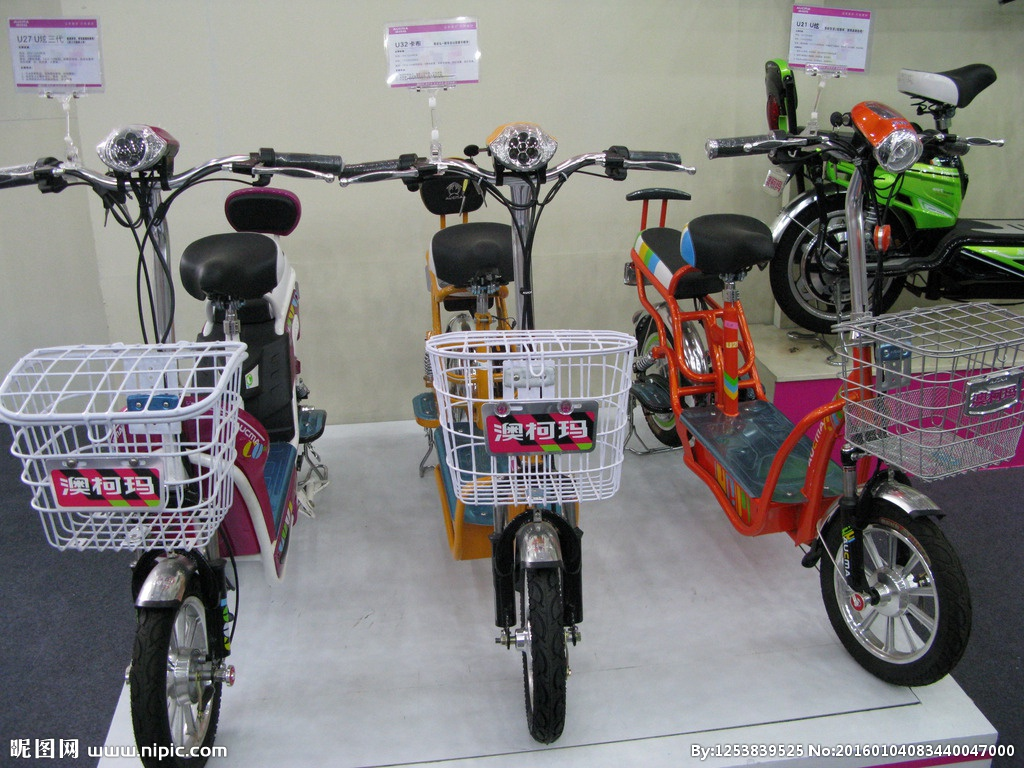non-vehicle: (618, 121, 981, 685), (0, 139, 323, 768), (334, 132, 647, 746)
